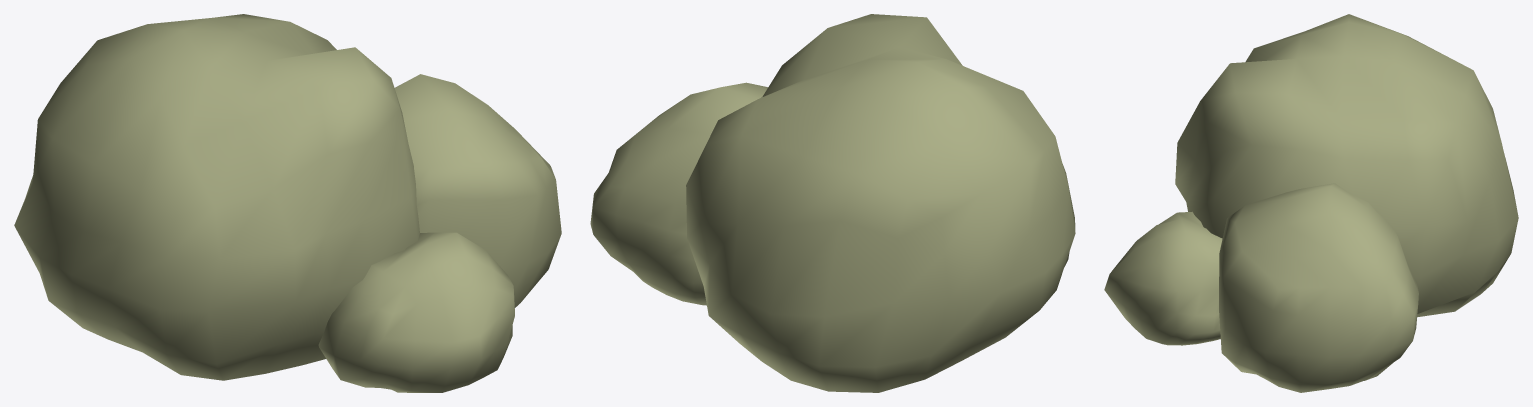
The model's file is bushes 1.fbx.
3 views of the same model, side by side, from view 1: azimuth 30°, elevation 25°; view 2: azimuth 150°, elevation 25°; view 3: azimuth 270°, elevation 25° (orthographic). The views are drawn at different scales.
Parts seen in each view (by area): view 1: pCube4; view 2: pCube4; view 3: pCube4.
Boxes of the visible parts, bbox=[...] form: pCube4: bbox=[14, 14, 561, 392]; pCube4: bbox=[590, 14, 1075, 392]; pCube4: bbox=[1104, 14, 1518, 392].
Size of the model in its own units: 179 by 110 by 163.
